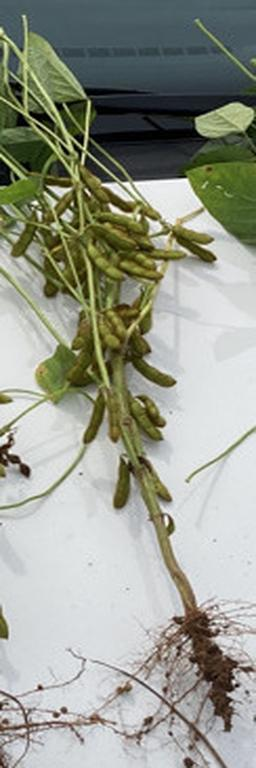pod: (82, 389, 109, 446), (131, 354, 175, 387), (8, 208, 36, 259), (107, 454, 130, 511), (89, 250, 125, 283), (82, 172, 109, 203), (108, 395, 120, 443)
soy: (1, 36, 256, 730)
